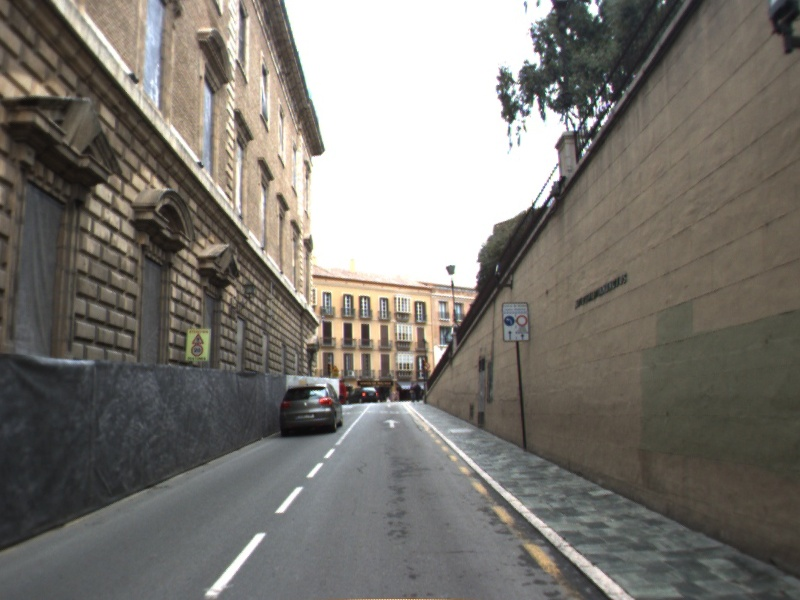STRAIGHT: (381, 417, 402, 430)
